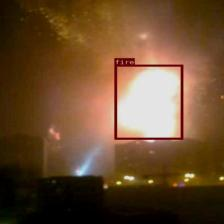fire: (114, 64, 183, 139)
